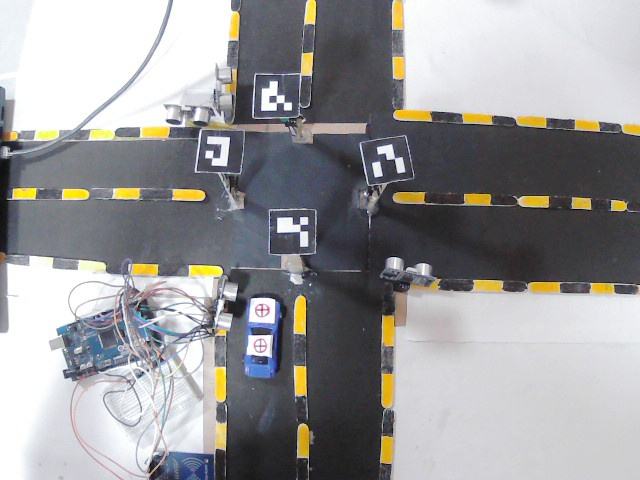aruco_marker: (360, 132, 415, 184), (266, 206, 317, 254), (194, 127, 244, 175), (251, 73, 301, 118)
emergency_vehicle: (244, 294, 284, 381)
uno_breadboard: (50, 293, 166, 384), (98, 351, 203, 437), (144, 446, 215, 480), (377, 254, 436, 288), (211, 273, 238, 333), (163, 101, 213, 126), (213, 63, 233, 117)
